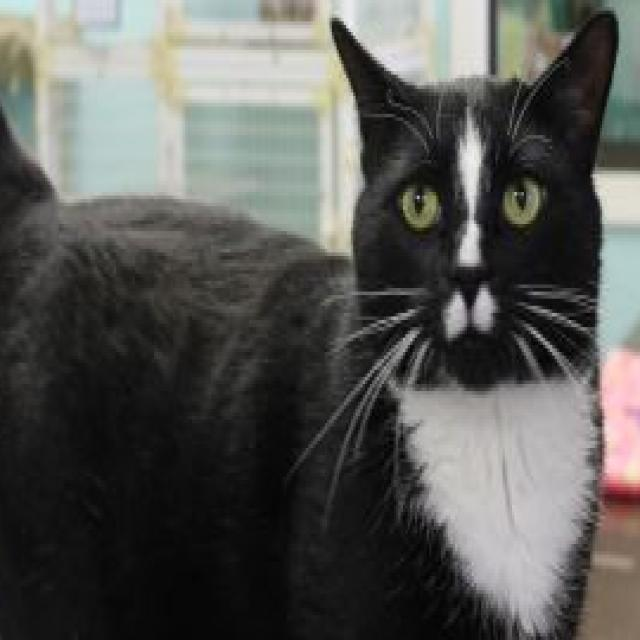Tuxedo: (0, 0, 623, 640)
